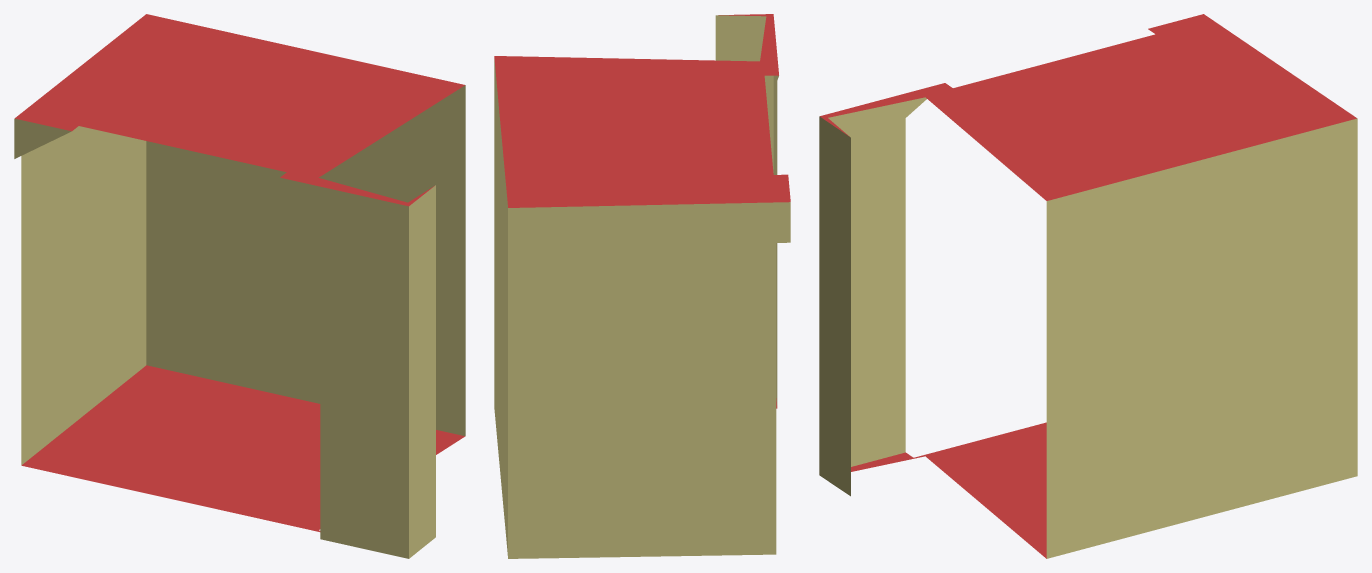
The picture shows the model from 3 angles, left to right: view 1: azimuth 30°, elevation 25°; view 2: azimuth 150°, elevation 25°; view 3: azimuth 270°, elevation 25°; orthographic projection.
Bounding box in the file's own units: 10.06 × 12.31 × 9.07.
